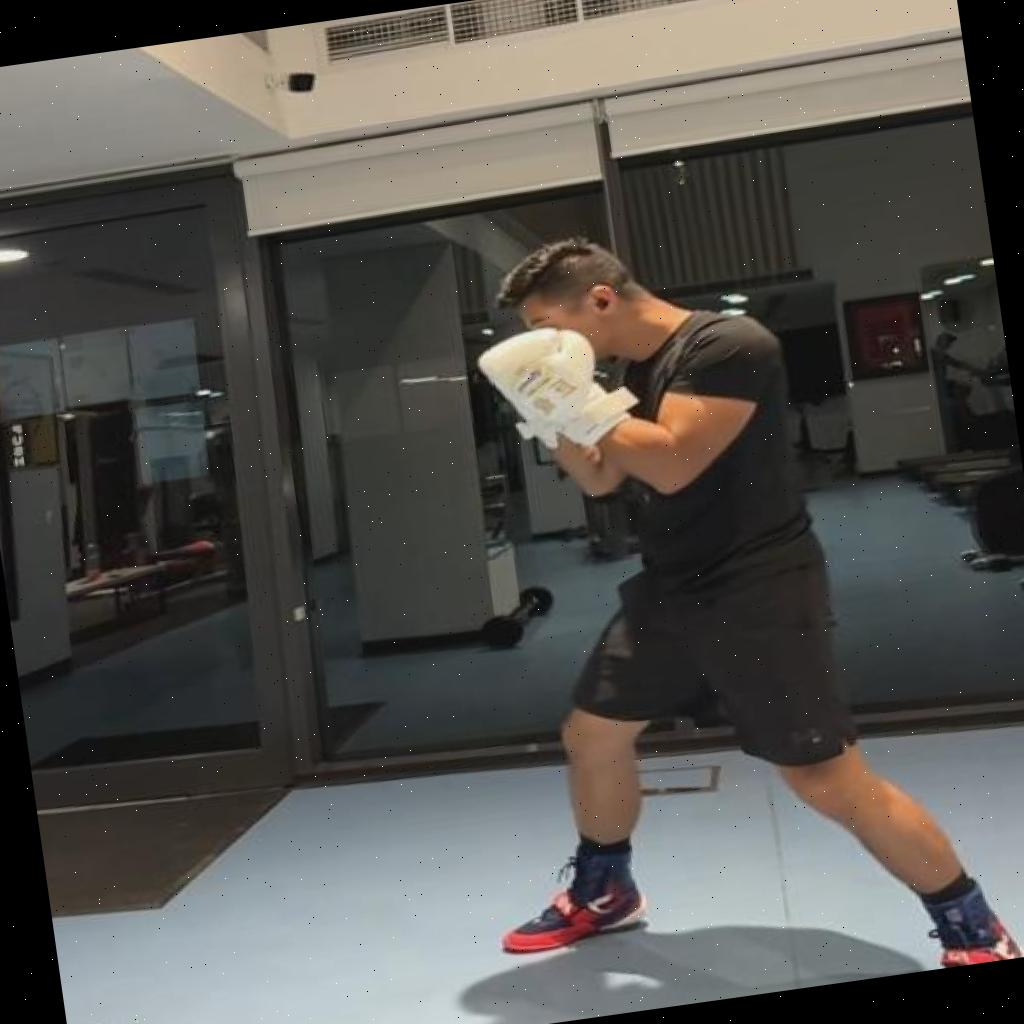no punch: (401, 186, 1024, 1024)
